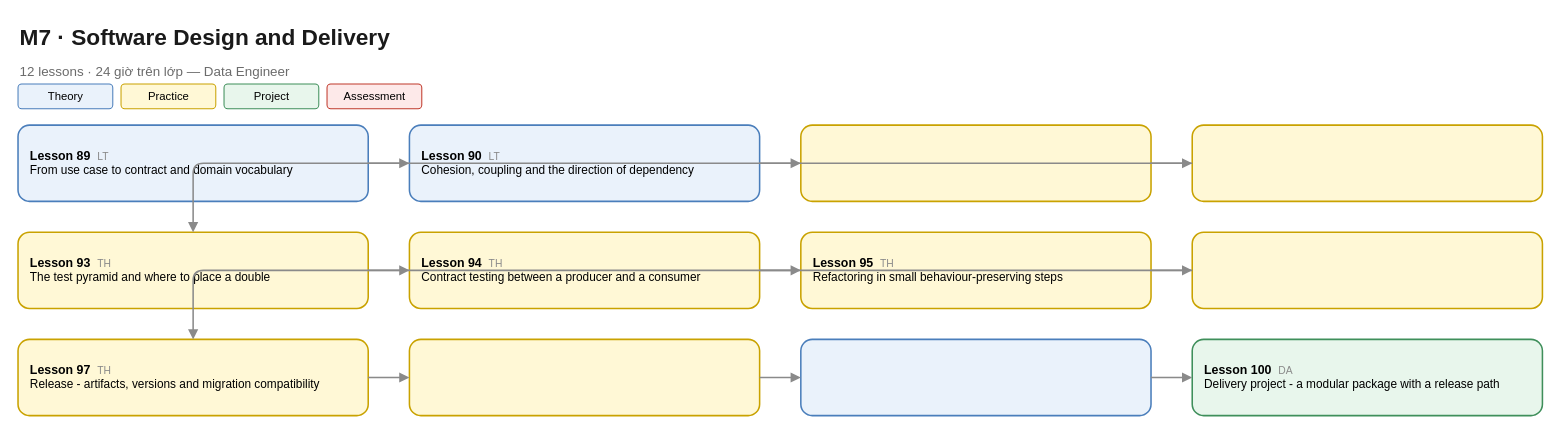
The diagram is 1561 pixels wide and 434 high, and some of its shapes have lost their labels. The shapes that lost their labels are listed below. From the top down, each one's centre as x and y in pixels, then its label:
point 975,163: Lesson 91 TH Ports and adapters in practice
point 1367,163: Lesson 92 TH Error design - expected failure against defect
point 1367,270: Lesson 96 TH Static analysis, dependency and security scanning
point 584,377: Lesson 98 TH Deployment strategies and rollback
point 975,377: Lesson 99 LT Monolith, modular monolith and the cost of splitting
